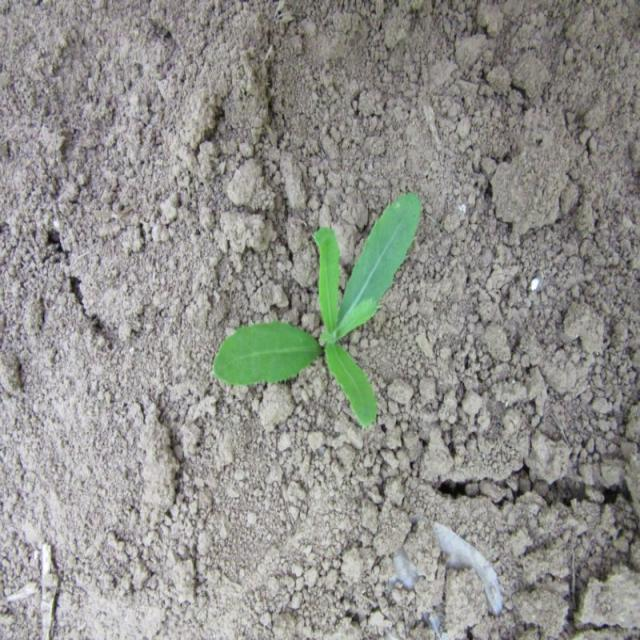field_thistle: (202, 200, 428, 438)
